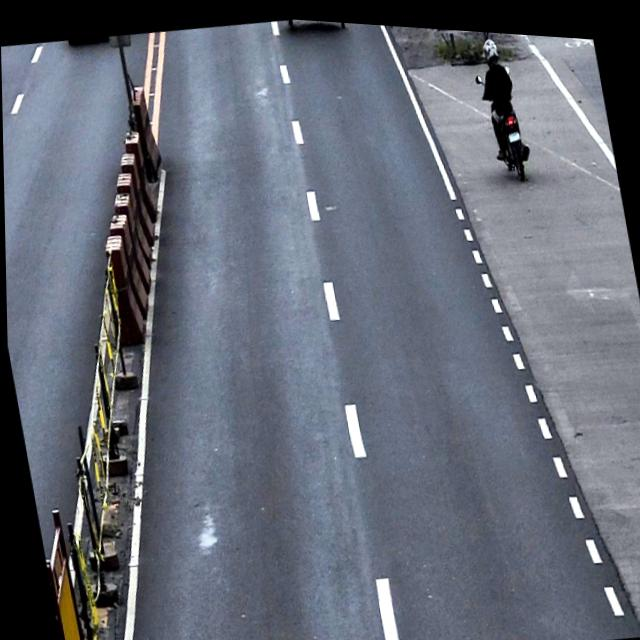License-Plate: (507, 122, 522, 137)
Motorcycle: (474, 58, 534, 180)
